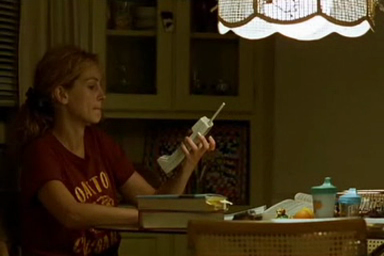face: (80, 70, 107, 123)
ms: (1, 1, 384, 256)
person: (19, 43, 215, 256)
